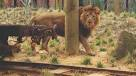lion: (26, 3, 102, 62)
